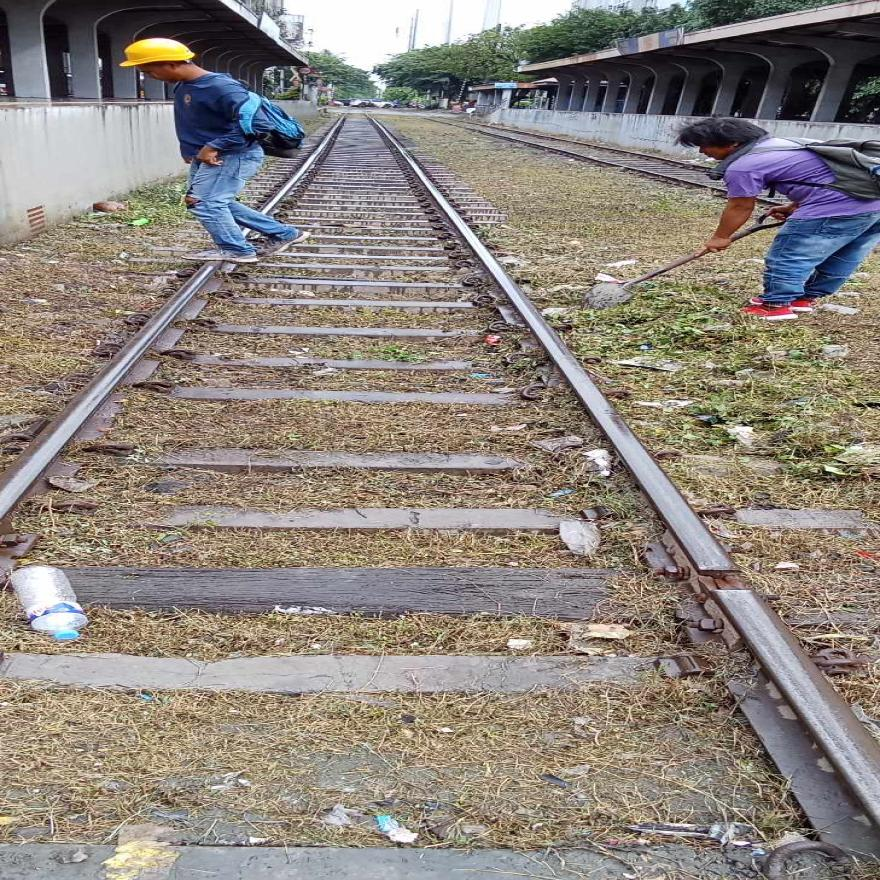railway-gap: (618, 541, 826, 625)
